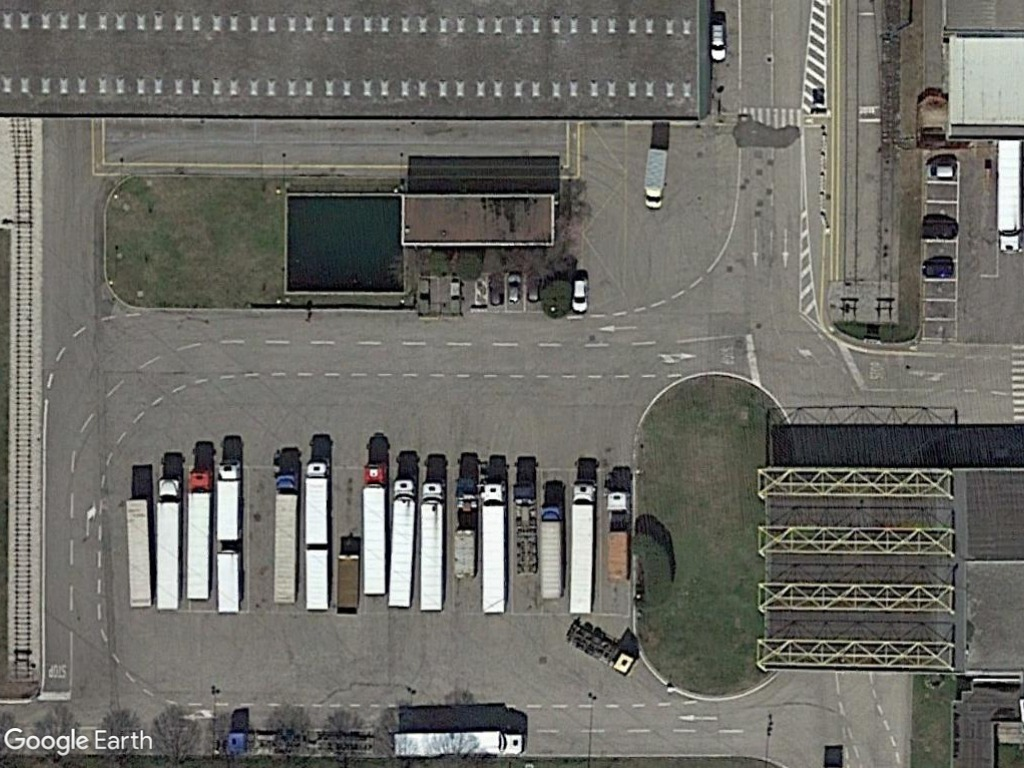car: (708, 20, 729, 65), (570, 276, 592, 316), (923, 160, 958, 182)
longvehicle: (302, 456, 333, 618), (211, 456, 242, 616), (477, 473, 510, 617), (387, 728, 528, 761), (268, 468, 300, 609), (360, 461, 392, 600), (184, 463, 214, 604), (568, 475, 597, 617), (155, 473, 183, 616), (389, 474, 418, 611), (418, 477, 446, 615), (123, 494, 155, 610), (994, 135, 1024, 258), (537, 502, 566, 605)
other: (603, 485, 634, 586), (509, 479, 539, 581), (452, 472, 478, 584)
truck: (216, 458, 244, 545), (640, 145, 669, 212)
